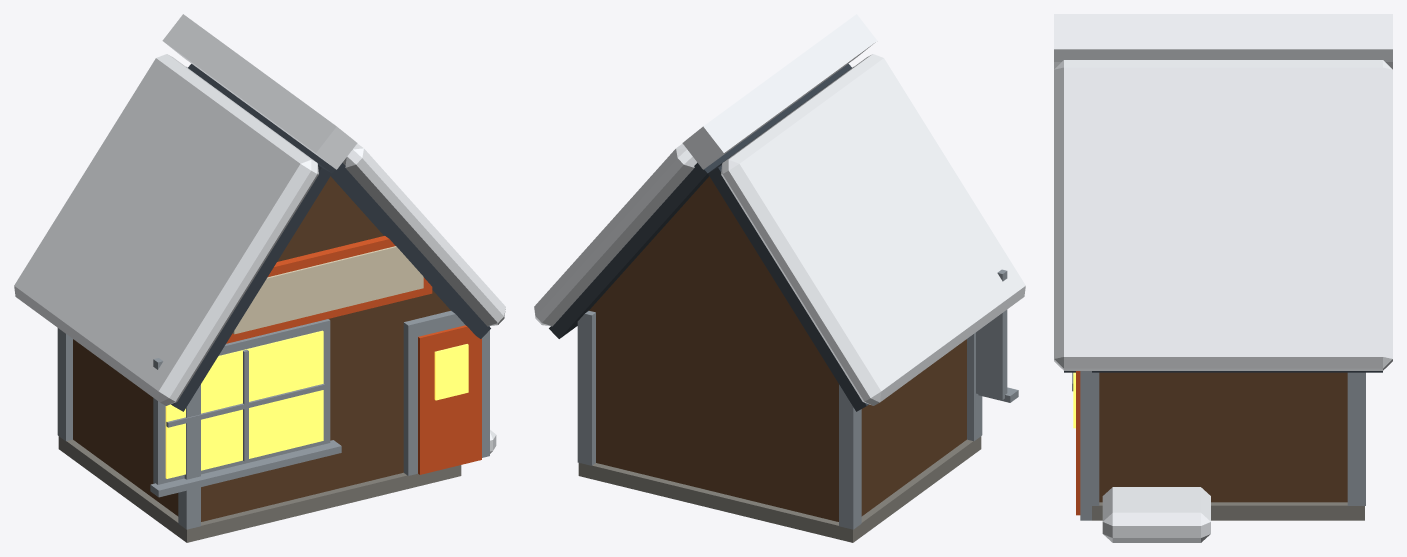
The model's file is warming-hut-aframe60s.glb.
3 renders of one model, left to right at view 1: azimuth 30°, elevation 25°; view 2: azimuth 150°, elevation 25°; view 3: azimuth 270°, elevation 25°, orthographic. The views are drawn at different scales.
Parts seen in each view (by area): view 1: warming-hut-aframe60s; view 2: warming-hut-aframe60s; view 3: warming-hut-aframe60s.
Boxes of the visible parts, left/top/right/bottom form: warming-hut-aframe60s: left=14, top=14, right=505, bottom=542; warming-hut-aframe60s: left=534, top=14, right=1025, bottom=542; warming-hut-aframe60s: left=1054, top=14, right=1392, bottom=542.
Bounding box in the file's own units: 5.51 × 5.74 × 4.07.
